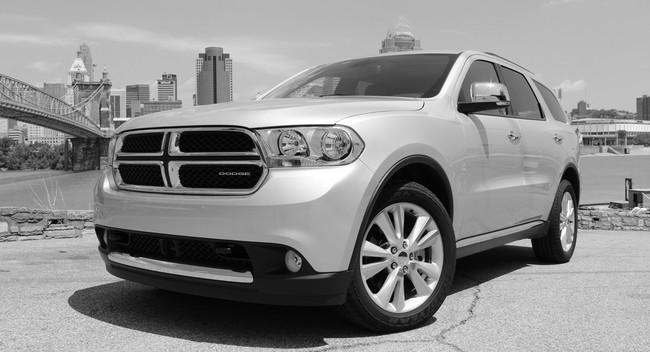car: (92, 48, 585, 325)
